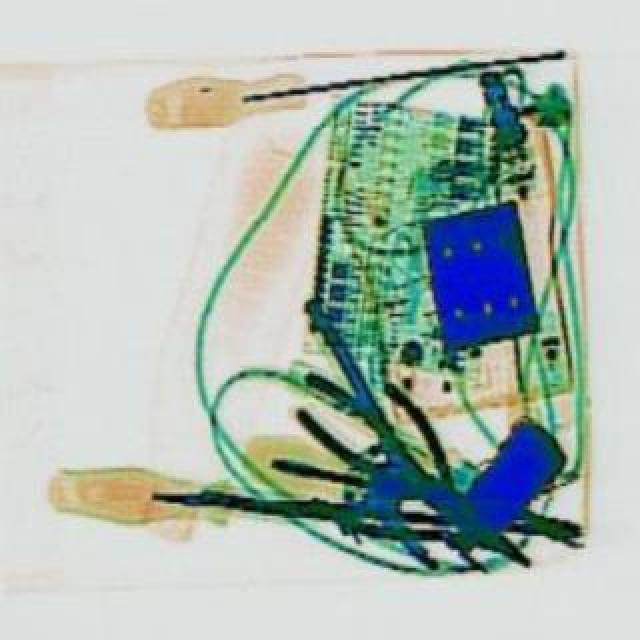wrench: (286, 346, 562, 594), (256, 452, 582, 560)
